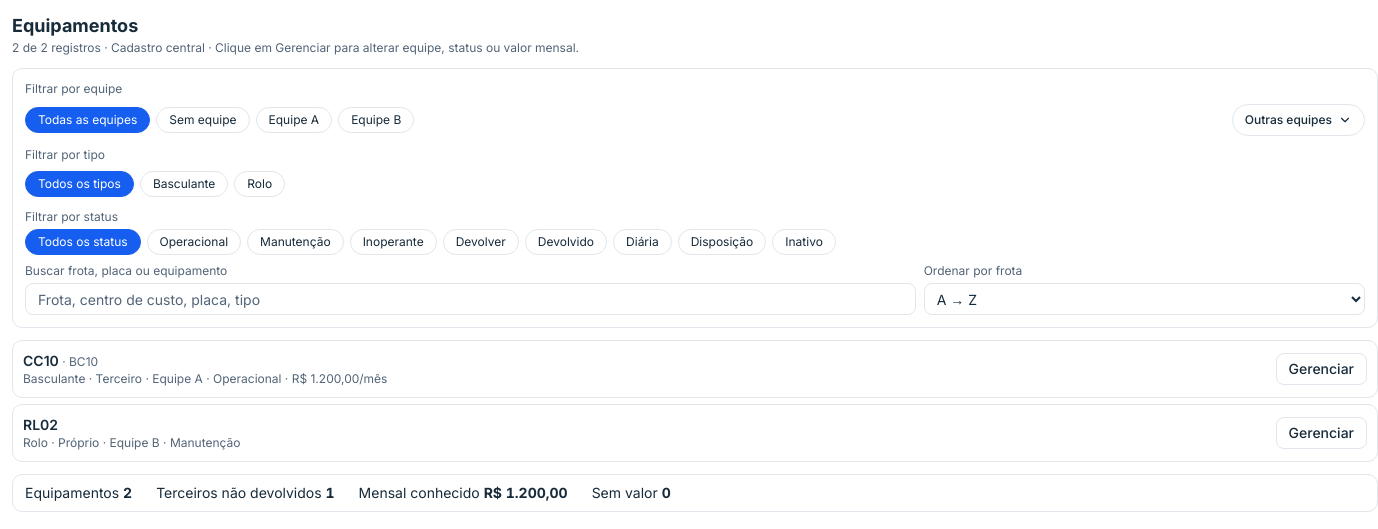
Test: abas de listas do WF Programador › filters equipamentos using category chips instead of a dropdown
This screenshot has width=1378, height=529.
Click the button "Basculante" at (184, 184), box x1=140 y1=171 x2=228 y2=197
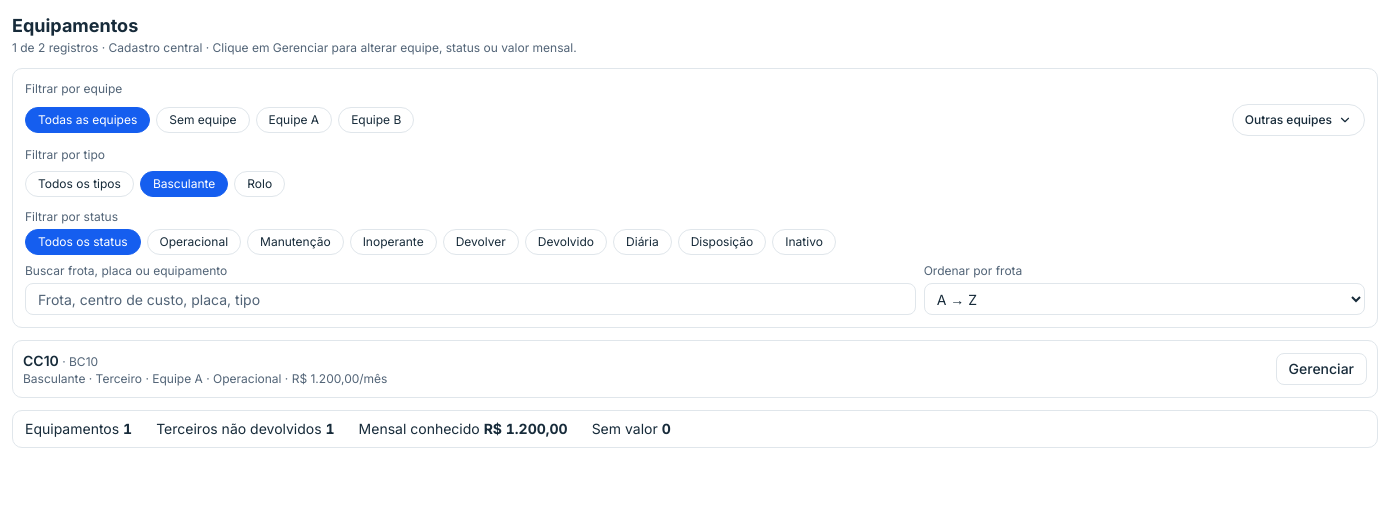
Check: the button "Rolo" is shown, box x1=234 y1=171 x2=285 y2=197
Check: the button "Gerenciar RL02" is gone
Check: the footer named "Resumo da lista filtrada" shows "Equipamentos 1", box x1=12 y1=410 x2=1377 y2=448
Click the button "Todos os tipos" at (79, 184), box x1=25 y1=171 x2=134 y2=197
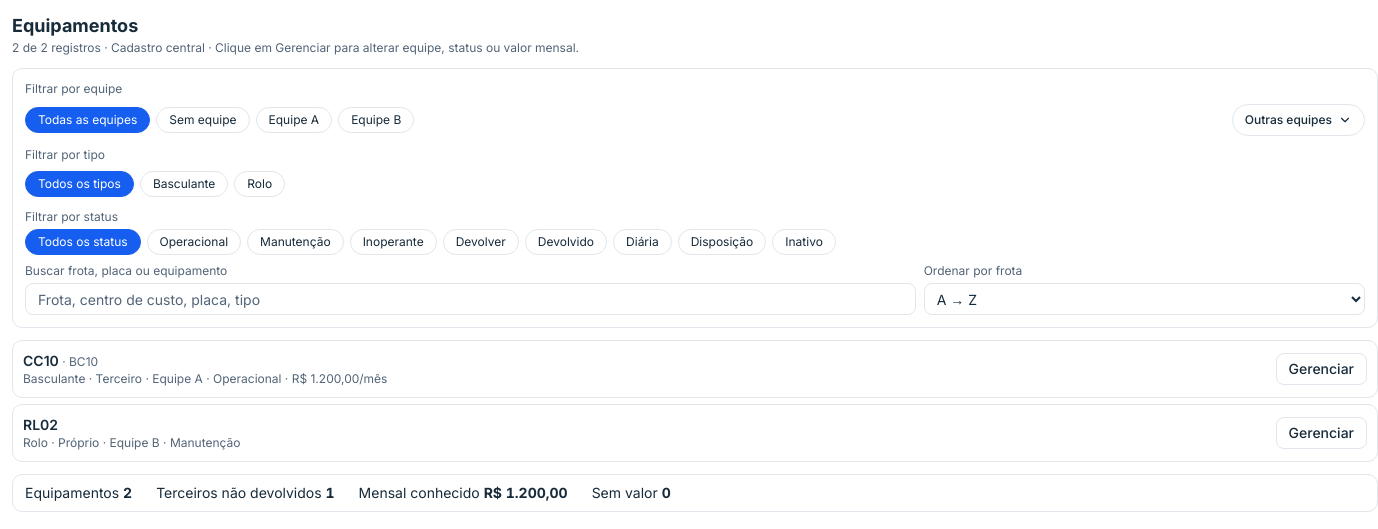
Check: the footer named "Resumo da lista filtrada" shows "Equipamentos 2", box x1=12 y1=474 x2=1377 y2=512
